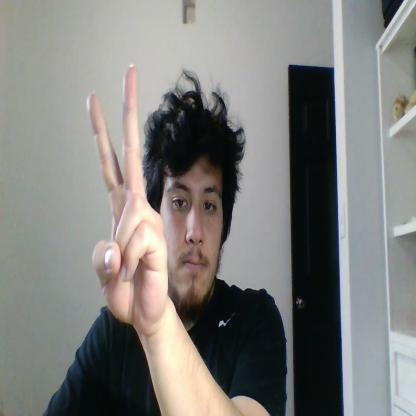V: (87, 65, 168, 327)
